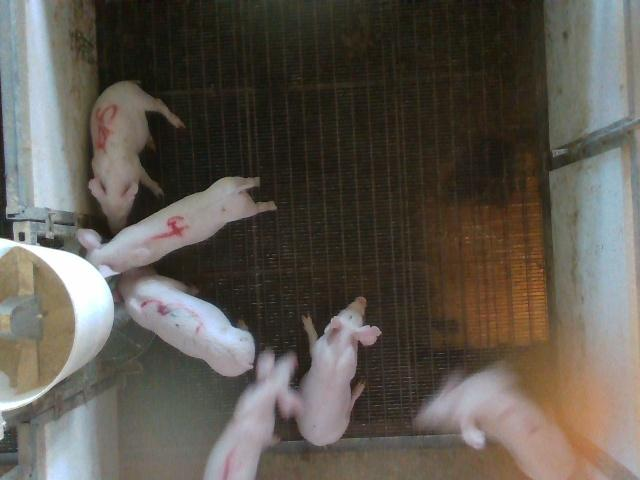pig-3: (119, 268, 255, 376)
pig-4: (79, 178, 276, 278)
pig-5: (89, 81, 184, 233)
